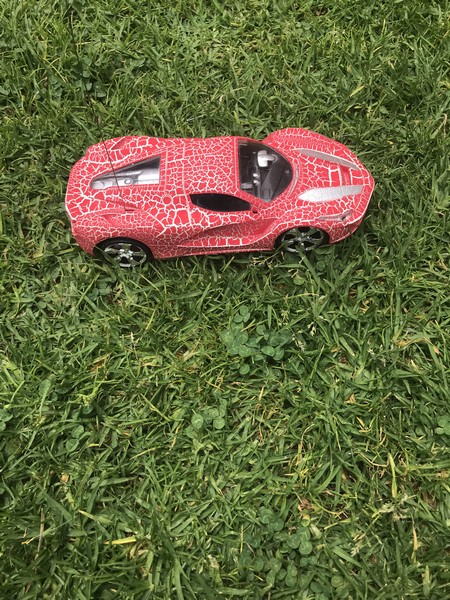RC: (63, 124, 374, 268)
